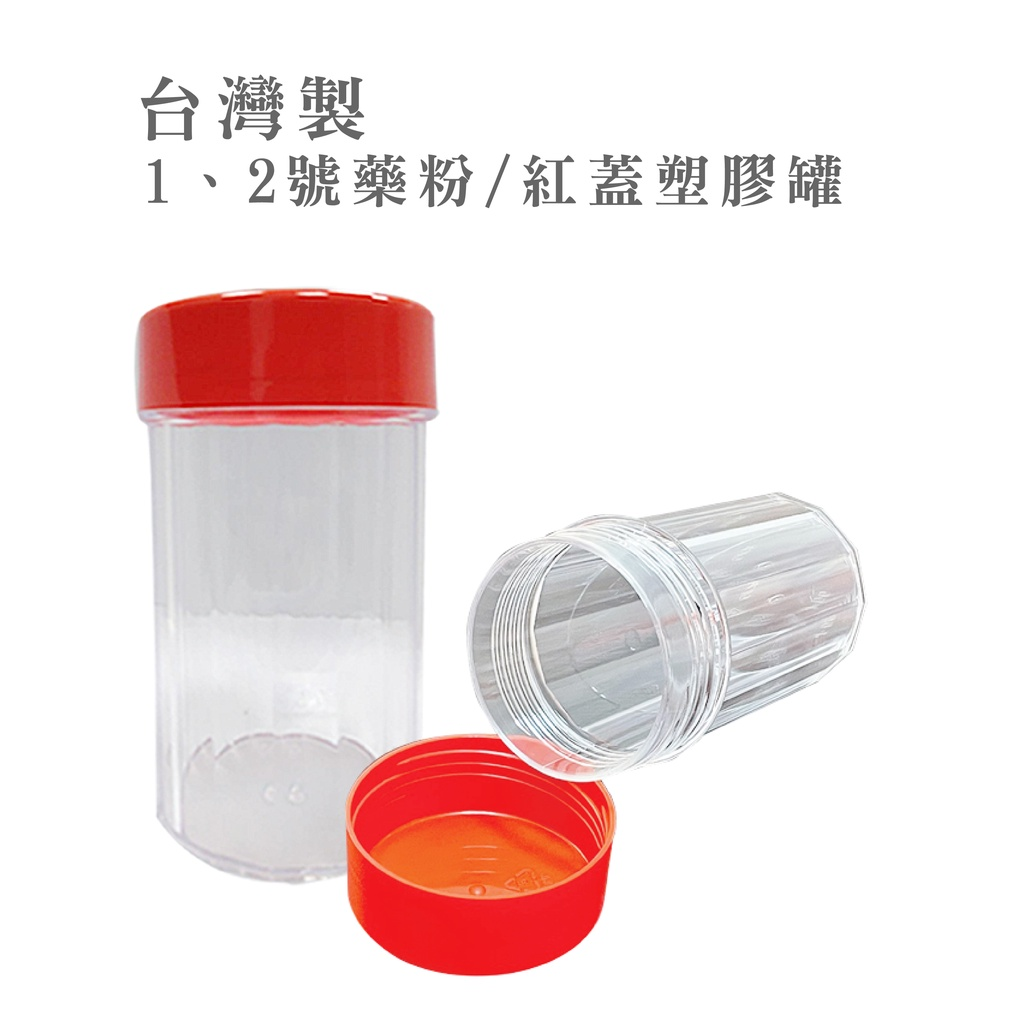medicinejar: (348, 488, 881, 973), (126, 284, 465, 883)
